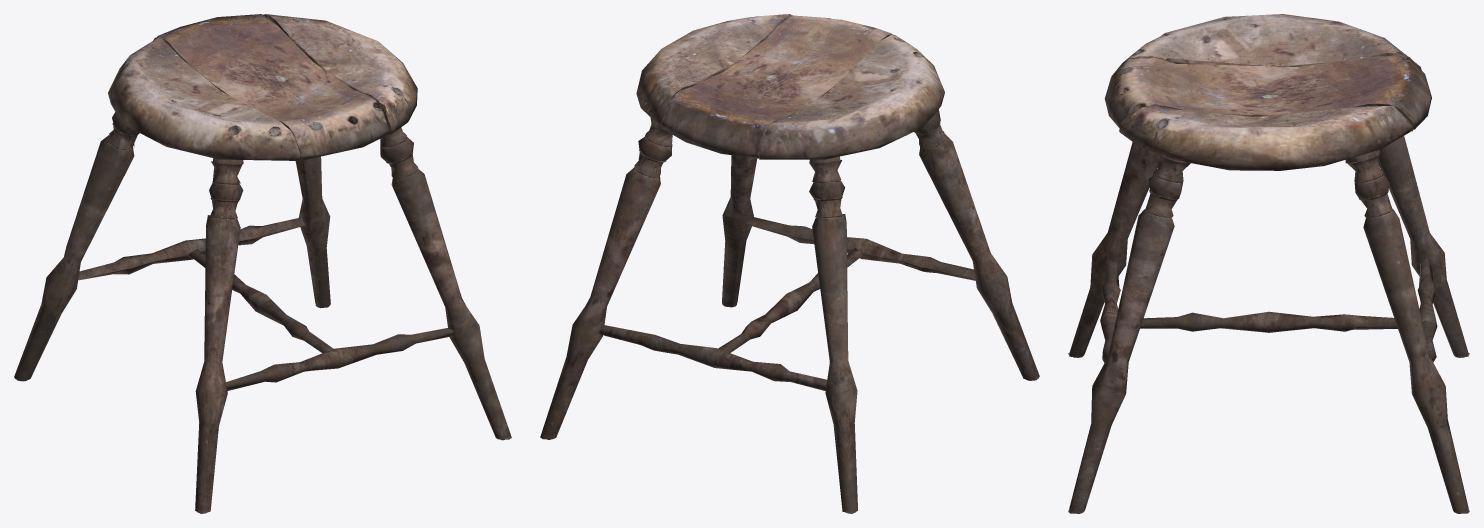
Rendered from wooden_stool_01.gltf.
The picture shows the model from 3 angles, left to right: view 1: azimuth 30°, elevation 25°; view 2: azimuth 150°, elevation 25°; view 3: azimuth 270°, elevation 25°; orthographic projection. The views are drawn at different scales.
Visible parts, largest first — view 1: wooden_stool_01; view 2: wooden_stool_01; view 3: wooden_stool_01.
Part boxes in pixels (x1,y1,x2,y2): wooden_stool_01: [14, 14, 511, 513]; wooden_stool_01: [540, 14, 1039, 513]; wooden_stool_01: [1068, 14, 1469, 513].
Bounding box in the file's own units: 0.4246 × 0.4374 × 0.4419.
1 material, 1 textured.
